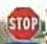stop: (5, 6, 40, 40)
